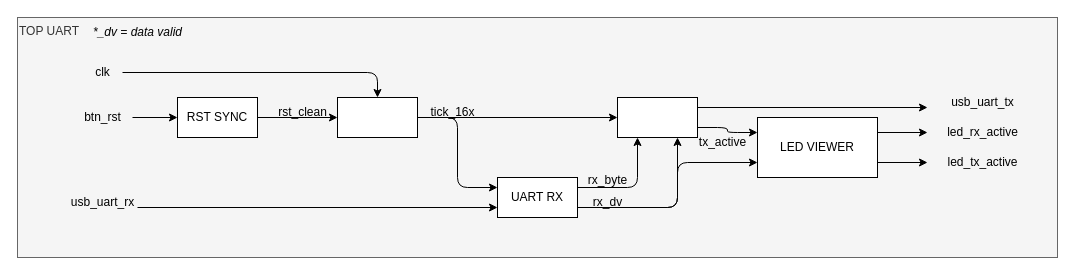
This 1075x275 diagram has some shape labels left out. The centre of each missing label's shape, as x and y in pixels:
"BAUD GEN" belongs at (377,117).
"UART TX" belongs at (657,117).
